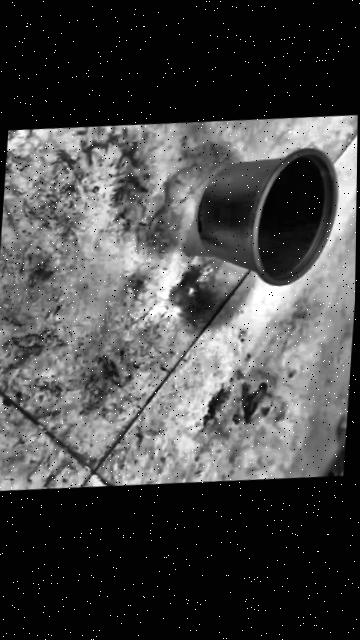pot: (192, 140, 339, 296)
